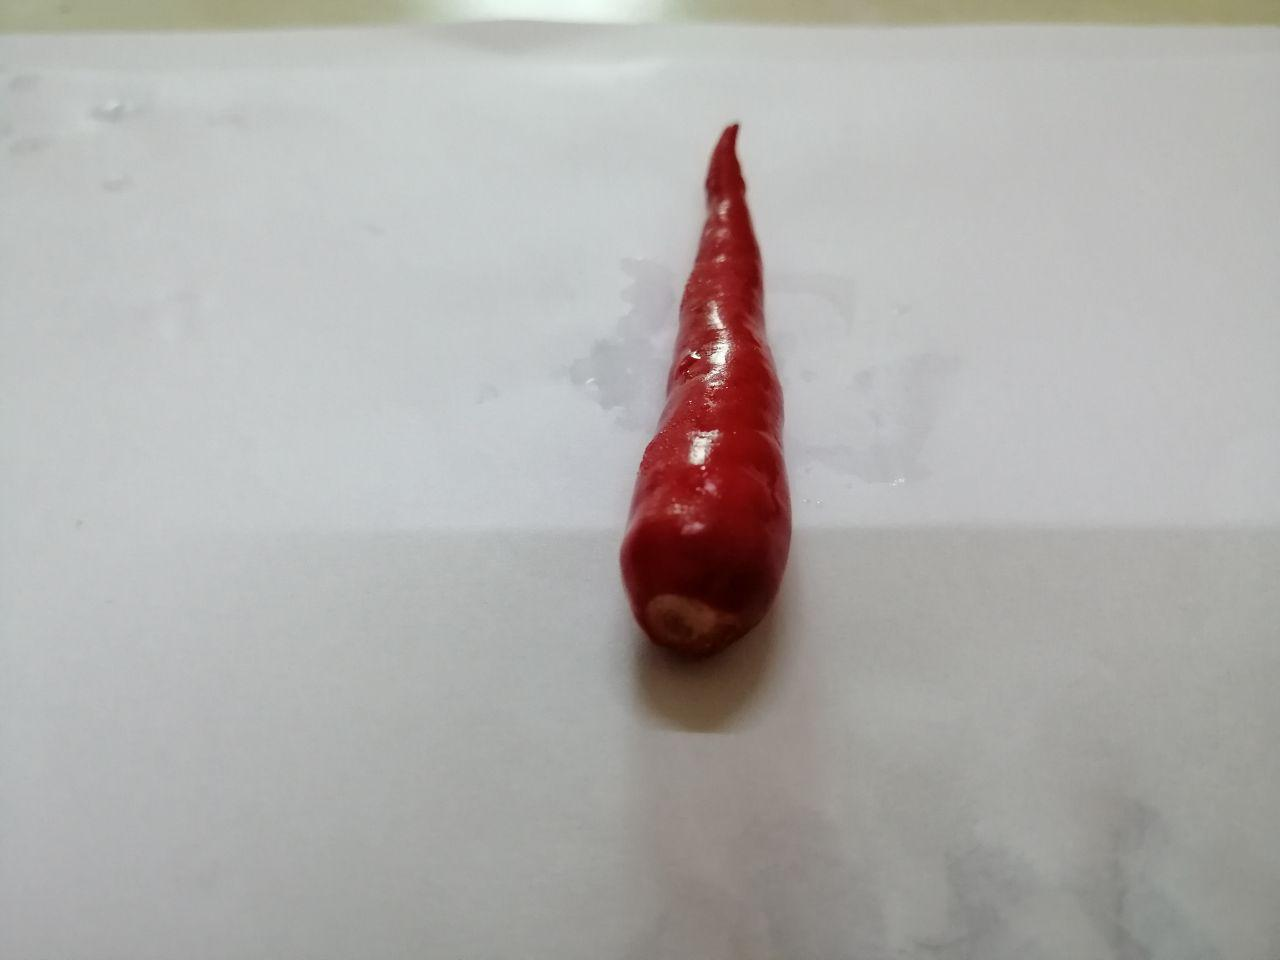lada merah: (610, 109, 805, 674)
